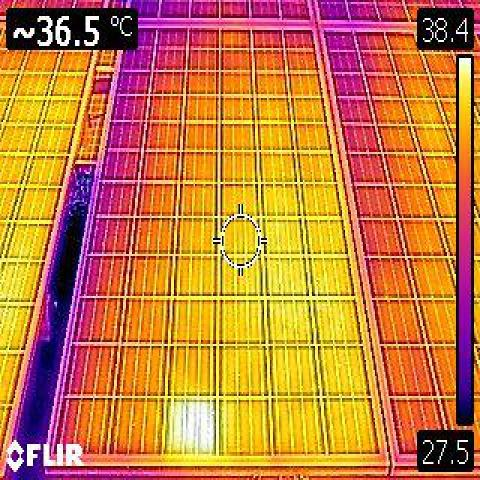fault: (166, 398, 216, 455)
